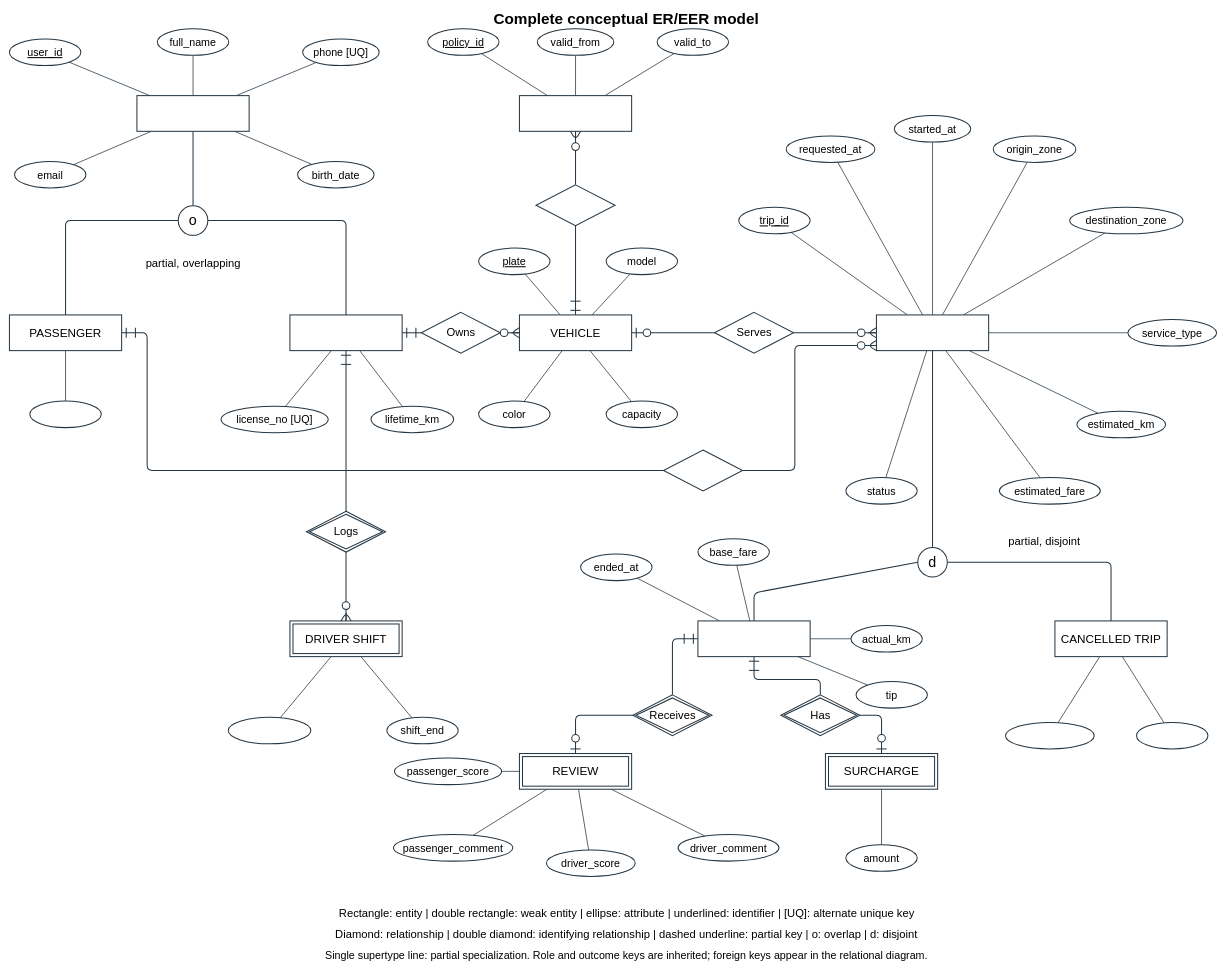
The diagram is 1226 pixels wide and 971 high, and some of its shapes have lost their labels. The shapes that lost their labels are listed below. From the top down, each one's centre as x and y in pixels, then its label:
At point (192, 113): "APP USER".
At point (575, 113): "INSURANCE".
At point (575, 205): "Covers".
At point (345, 332): "DRIVER".
At point (932, 332): "TRIP".
At point (65, 414): "tier".
At point (703, 470): "Requests".
At point (753, 638): "COMPLETED TRIP".
At point (269, 730): "shift_start".
At point (1049, 735): "cancelled_at".
At point (1172, 735): "reason".
